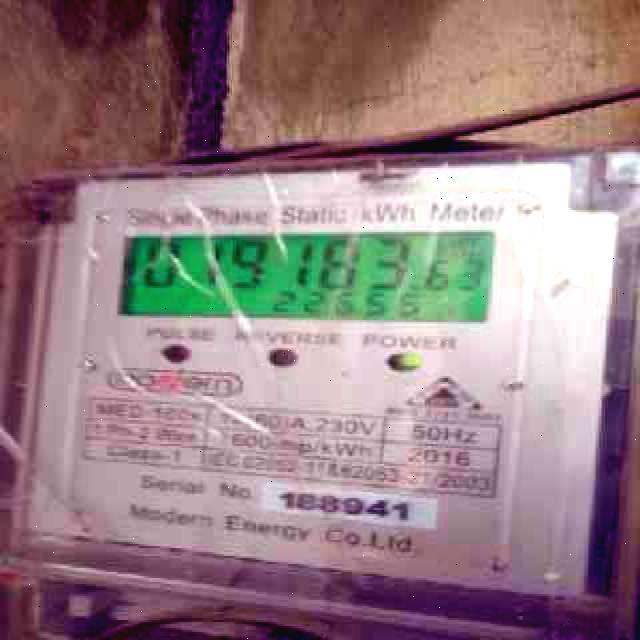LCD: (109, 230, 505, 330)
